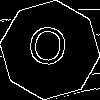O: (25, 25, 70, 76)
